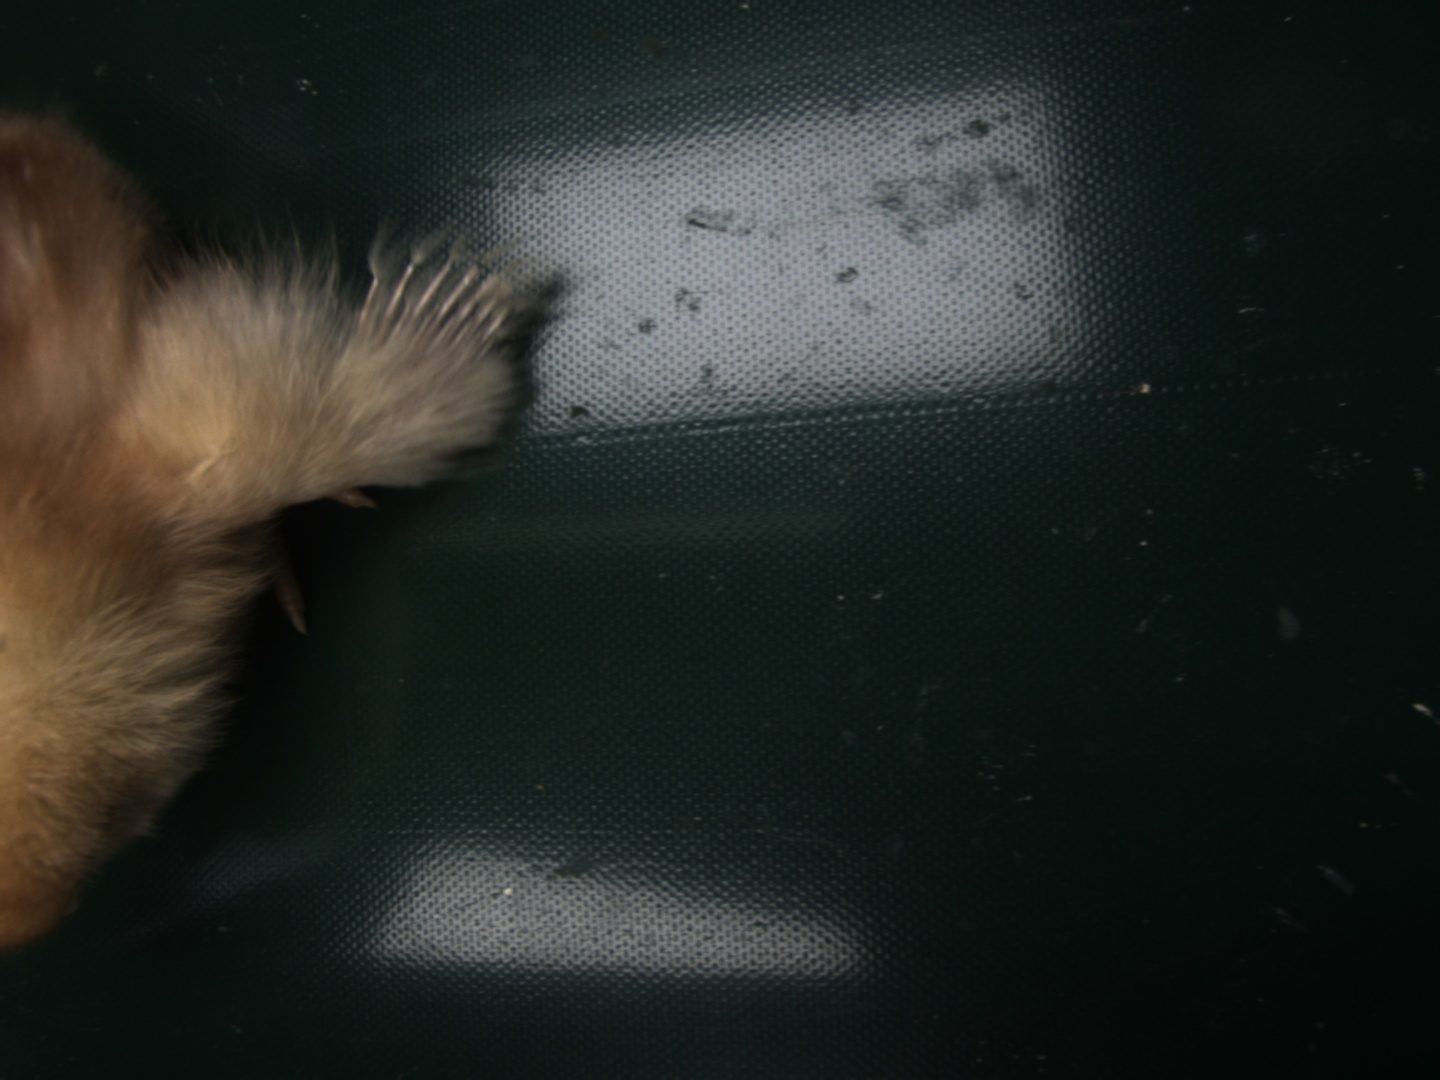female: (351, 260, 511, 361)
